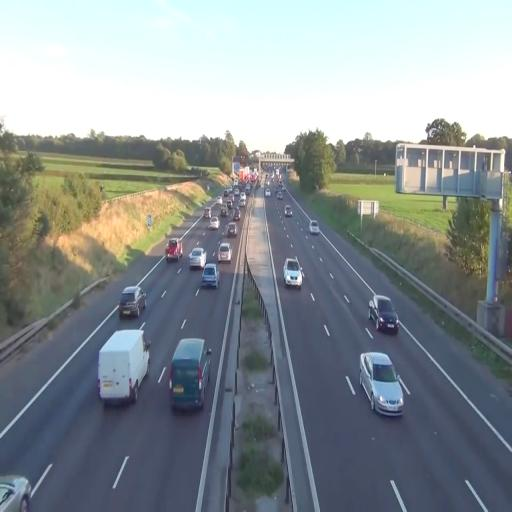vehicle: (97, 328, 150, 405), (170, 338, 210, 412), (359, 351, 402, 415), (0, 463, 54, 509), (368, 294, 399, 334), (118, 284, 146, 320), (283, 257, 303, 289), (202, 262, 220, 289), (188, 247, 207, 271), (216, 240, 232, 266), (166, 238, 182, 261), (310, 220, 320, 234)
